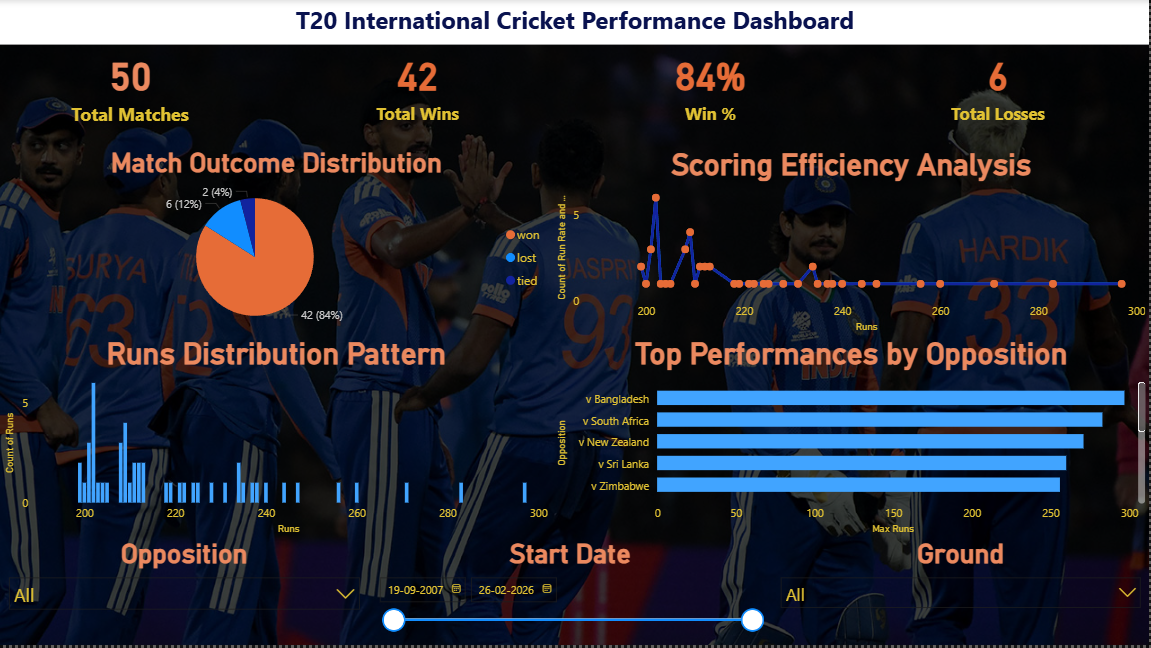

The dashboard page shown, as its layout file describes it:
{"tool":"powerbi","page":{"name":"Page 1","canvas":[1280,720],"ordinal":0},"visuals":[{"type":"card","fields":{"Values":["Table 6.Total Matches"]},"box":[0,24.6,289.4,140.3],"z":0},{"type":"card","fields":{"Values":["Table 6.Total Wins"]},"box":[289.4,24.6,350.8,140.3],"z":1000},{"type":"card","fields":{"Values":["Table 6.Win %"]},"box":[640.2,24.6,301.7,140.3],"z":2000},{"type":"card","fields":{"Values":["Table 6.Total Losses"]},"box":[941.9,24.6,338.5,140.3],"z":3000},{"type":"pieChart","title":"Match Outcome Distribution","fields":{"Y":["CountNonNull(Table 6.Result)"],"Category":["Table 6.Result"]},"box":[0,164.9,615.7,210.5],"z":4000},{"type":"clusteredColumnChart","title":"Runs Distribution Pattern","fields":{"Category":["Table 6.Runs"],"Y":["CountNonNull(Table 6.Runs)"]},"box":[0,375.4,615.7,224.5],"z":5000},{"type":"lineChart","title":"Scoring Efficiency Analysis","fields":{"Category":["Table 6.Runs"],"Y":["CountNonNull(Table 6.Run Rate)","CountNonNull(Table 6.Wkts)"]},"box":[615.7,164.9,664.8,210.5],"z":6000},{"type":"clusteredBarChart","title":"Top Performances by Opposition","fields":{"Category":["Table 6.Opposition"],"Y":["Table 6.Max Runs"]},"box":[615.7,375.4,664.8,224.5],"z":7000},{"type":"slicer","title":"Opposition ","fields":{"Values":["Table 6.Opposition"]},"box":[0,599.9,410.5,119.3],"z":8000},{"type":"slicer","title":"Start Date","fields":{"Values":["Table 6.Start Date"]},"box":[410.5,599.9,449,119.3],"z":9000},{"type":"slicer","title":"Ground","fields":{"Values":["Table 6.Ground"]},"box":[859.5,599.9,421,119.3],"z":10000},{"type":"textbox","box":[0,0,1280.5,50.9],"z":10001}]}

Visuals, with their boxes in screenshot pixels (x1, y1, x2, y2), scaled from the page's 1280x720 canvas onto the 1151x648 screenshot:
card - Table 6.Total Matches: select_region(0, 22, 260, 148)
card - Table 6.Total Wins: select_region(260, 22, 576, 148)
card - Table 6.Win %: select_region(576, 22, 847, 148)
card - Table 6.Total Losses: select_region(847, 22, 1150, 148)
"Match Outcome Distribution" pieChart: select_region(0, 148, 554, 338)
"Runs Distribution Pattern" clusteredColumnChart: select_region(0, 338, 554, 540)
"Scoring Efficiency Analysis" lineChart: select_region(554, 148, 1150, 338)
"Top Performances by Opposition" clusteredBarChart: select_region(554, 338, 1150, 540)
"Opposition " slicer: select_region(0, 540, 369, 647)
"Start Date" slicer: select_region(369, 540, 773, 647)
"Ground" slicer: select_region(773, 540, 1150, 647)
textbox: select_region(0, 0, 1150, 46)
